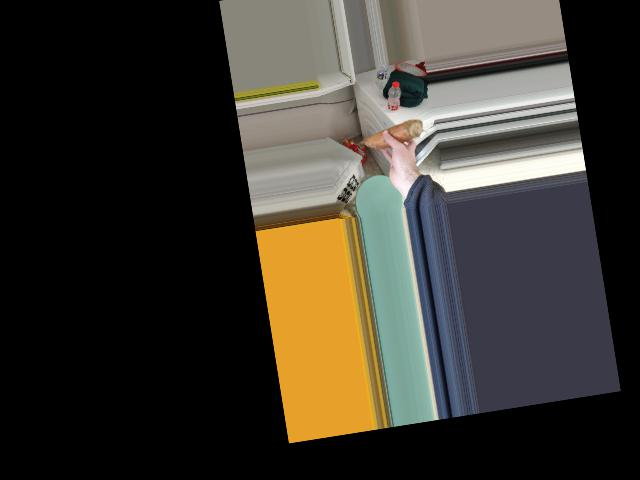sweet_potato: (360, 123, 425, 149)
